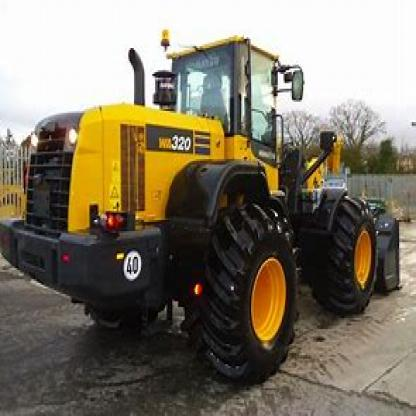bull_dozer/loader/grader: (4, 28, 409, 384)
